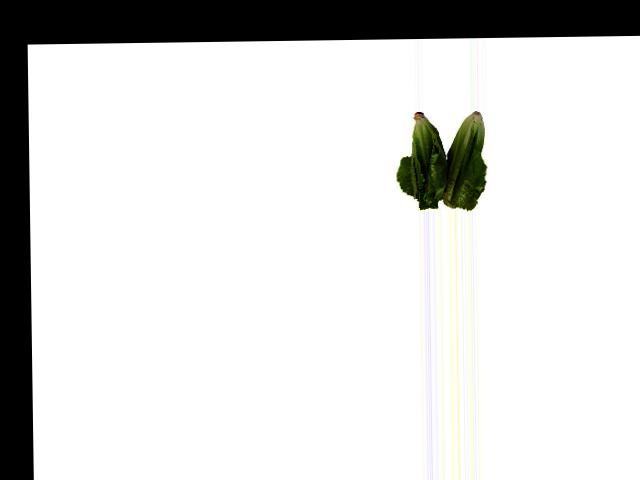lettuce: (405, 109, 491, 211)
